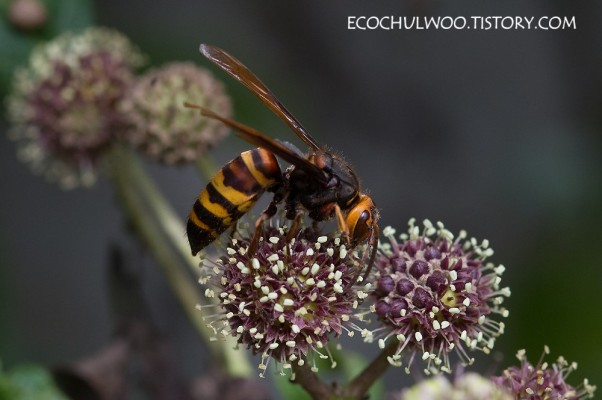asian_giant_hornet: (186, 140, 383, 259)
